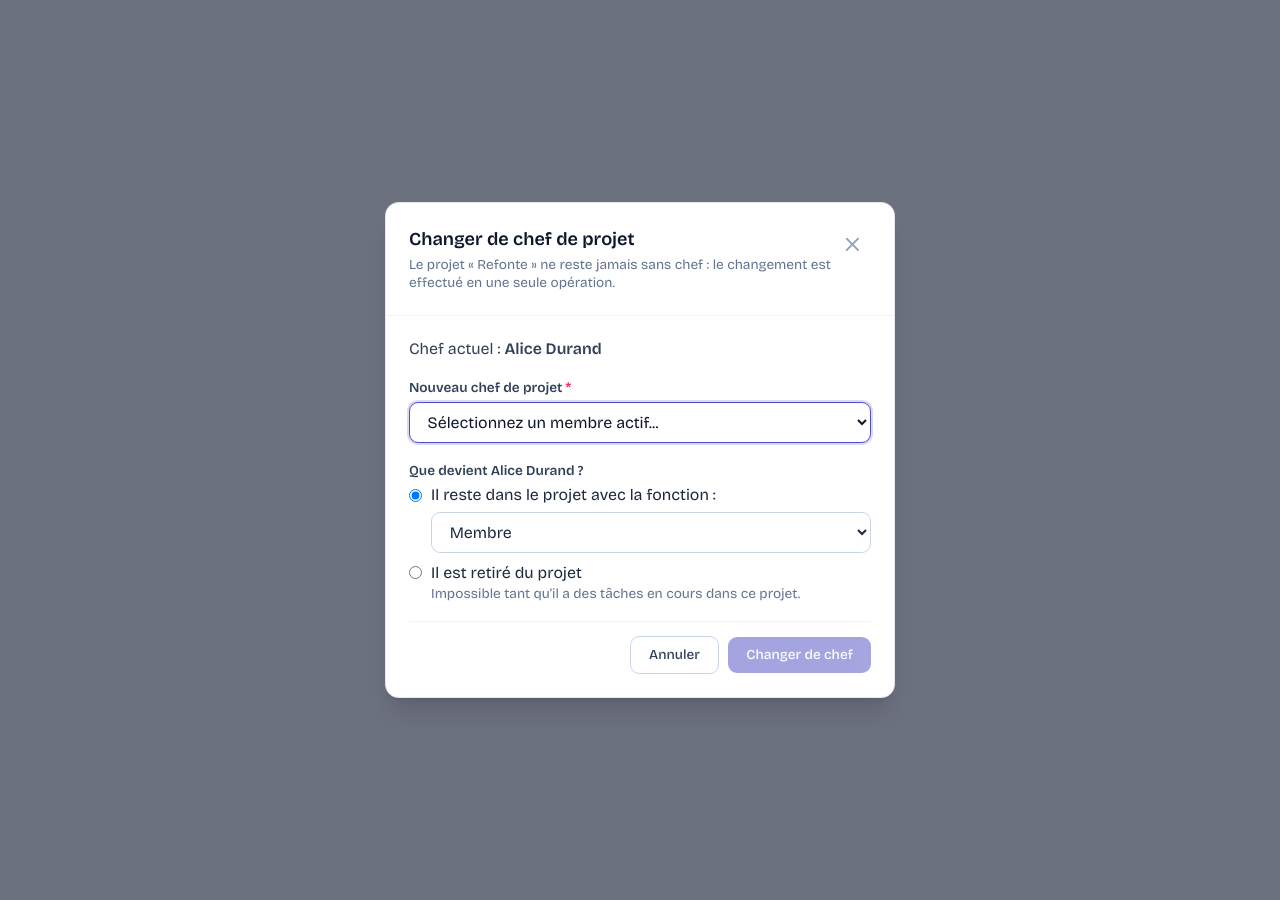
ChangeChefModal › affiche l’erreur du serveur et laisse la fenêtre ouverte
Select "Bruno Durand (Membre)" in the dropdown labelled "Nouveau chef de projet *" at (640, 423), box left=409, top=402, right=871, bottom=443
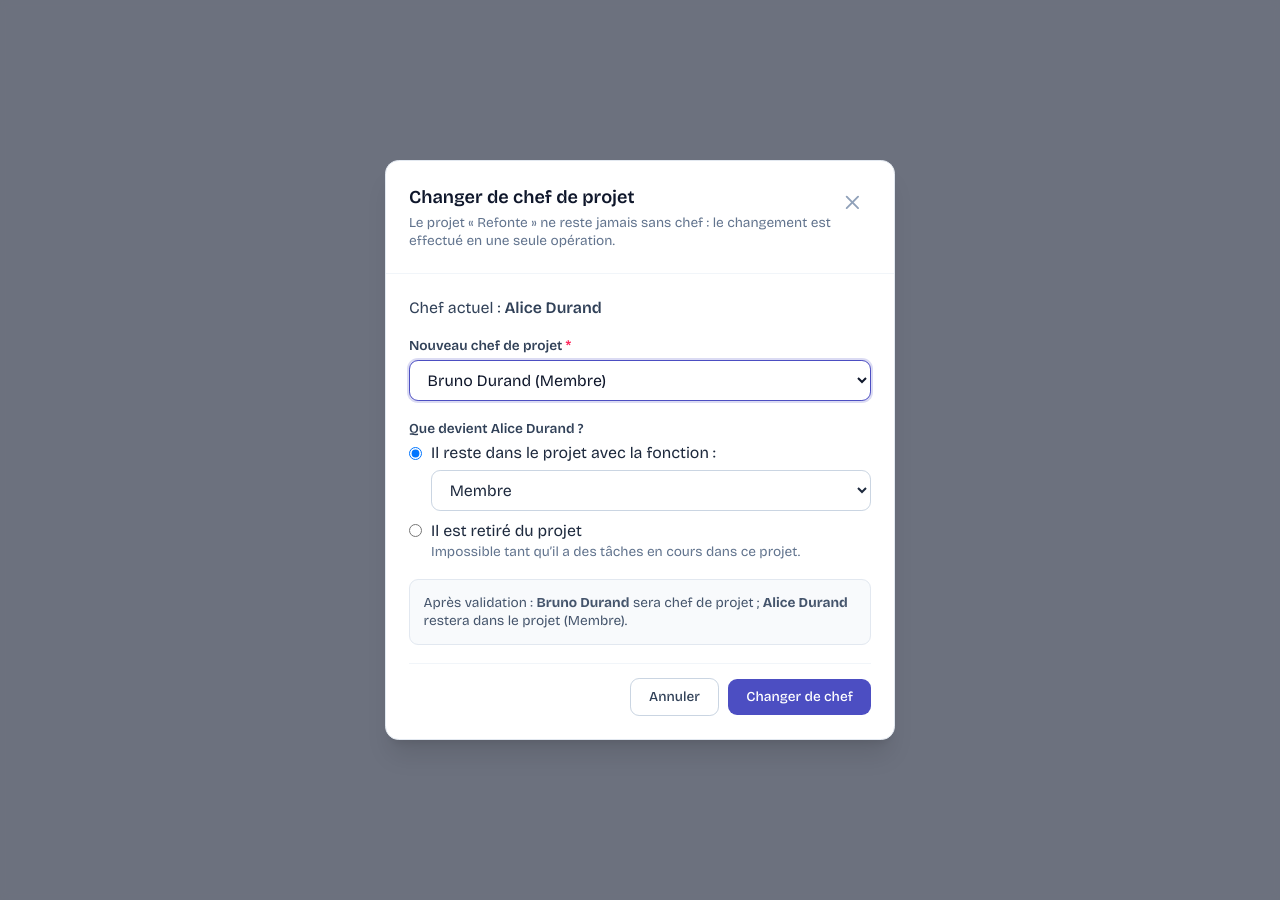
Click the button "Changer de chef".
click(800, 697)  # box left=728, top=678, right=871, bottom=715
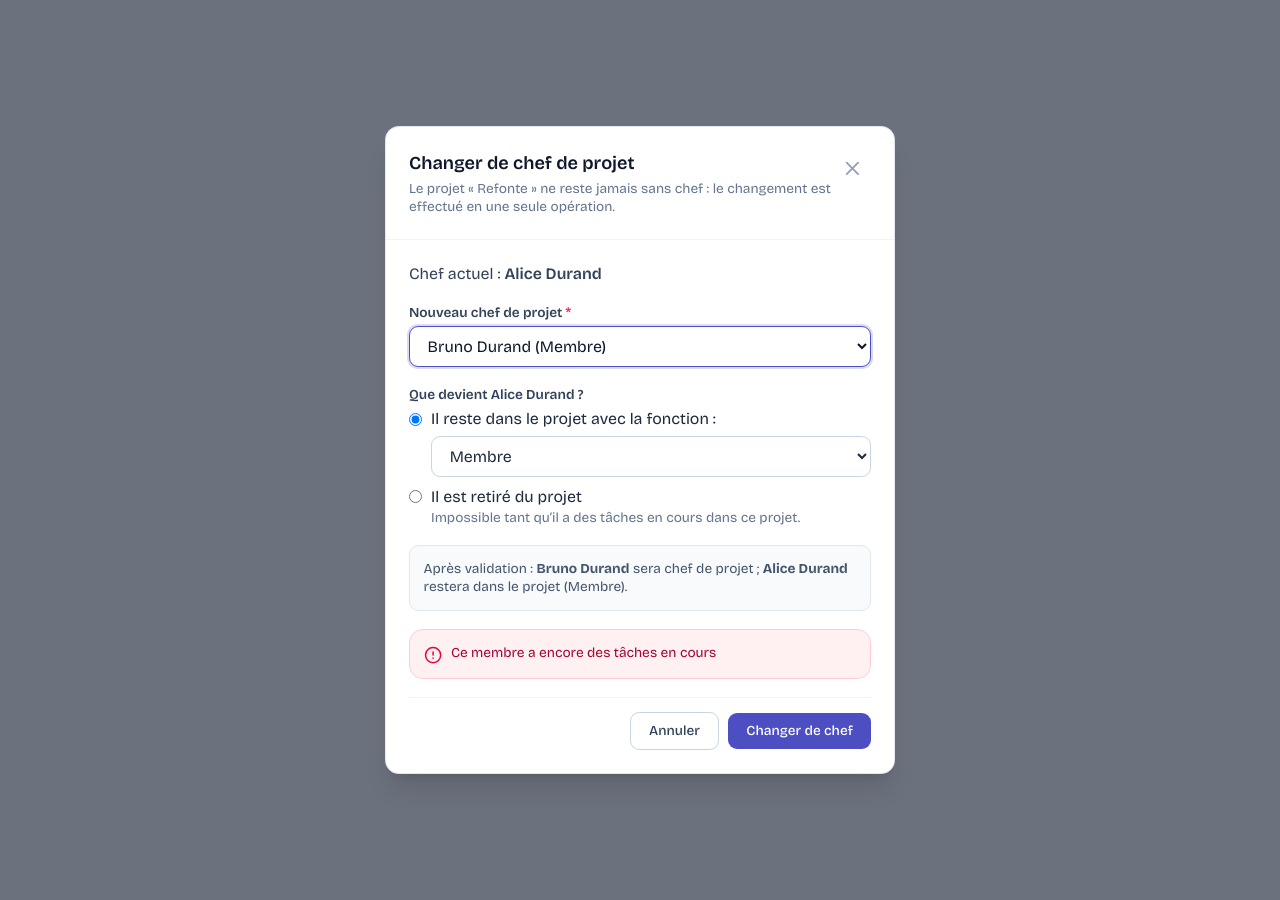
Check: the message reads "Ce membre a encore des tâches en cours", box left=451, top=644, right=716, bottom=661
